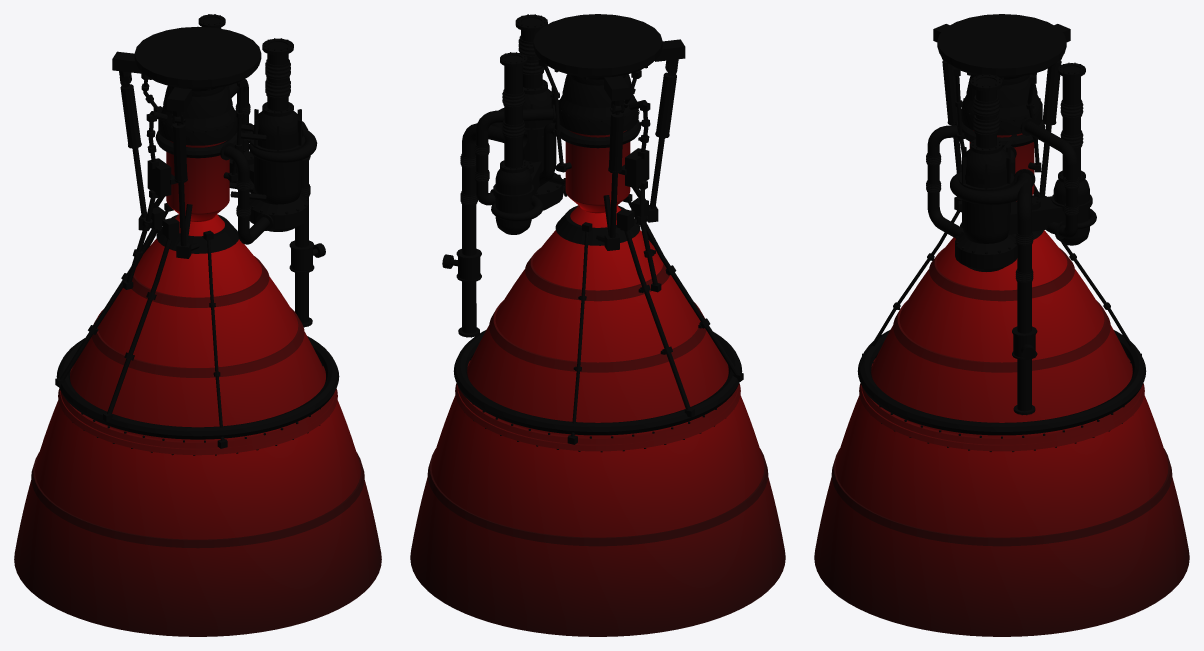
Rendered from eng_hydrolox_vacuum.fbx.
3 renders of one model, left to right at view 1: azimuth 30°, elevation 25°; view 2: azimuth 150°, elevation 25°; view 3: azimuth 270°, elevation 25°, orthographic. The views are drawn at different scales.
Visible parts, largest first — view 1: eng_hydrolox_vacuum_LOD0; view 2: eng_hydrolox_vacuum_LOD0; view 3: eng_hydrolox_vacuum_LOD0.
Boxes of the visible parts, x1,y1,x2,y2 form: eng_hydrolox_vacuum_LOD0: [14, 14, 381, 636]; eng_hydrolox_vacuum_LOD0: [410, 14, 785, 636]; eng_hydrolox_vacuum_LOD0: [814, 14, 1189, 636].
Size of what is drawn, in the model's own units: 1.45 by 2.2 by 1.45.
